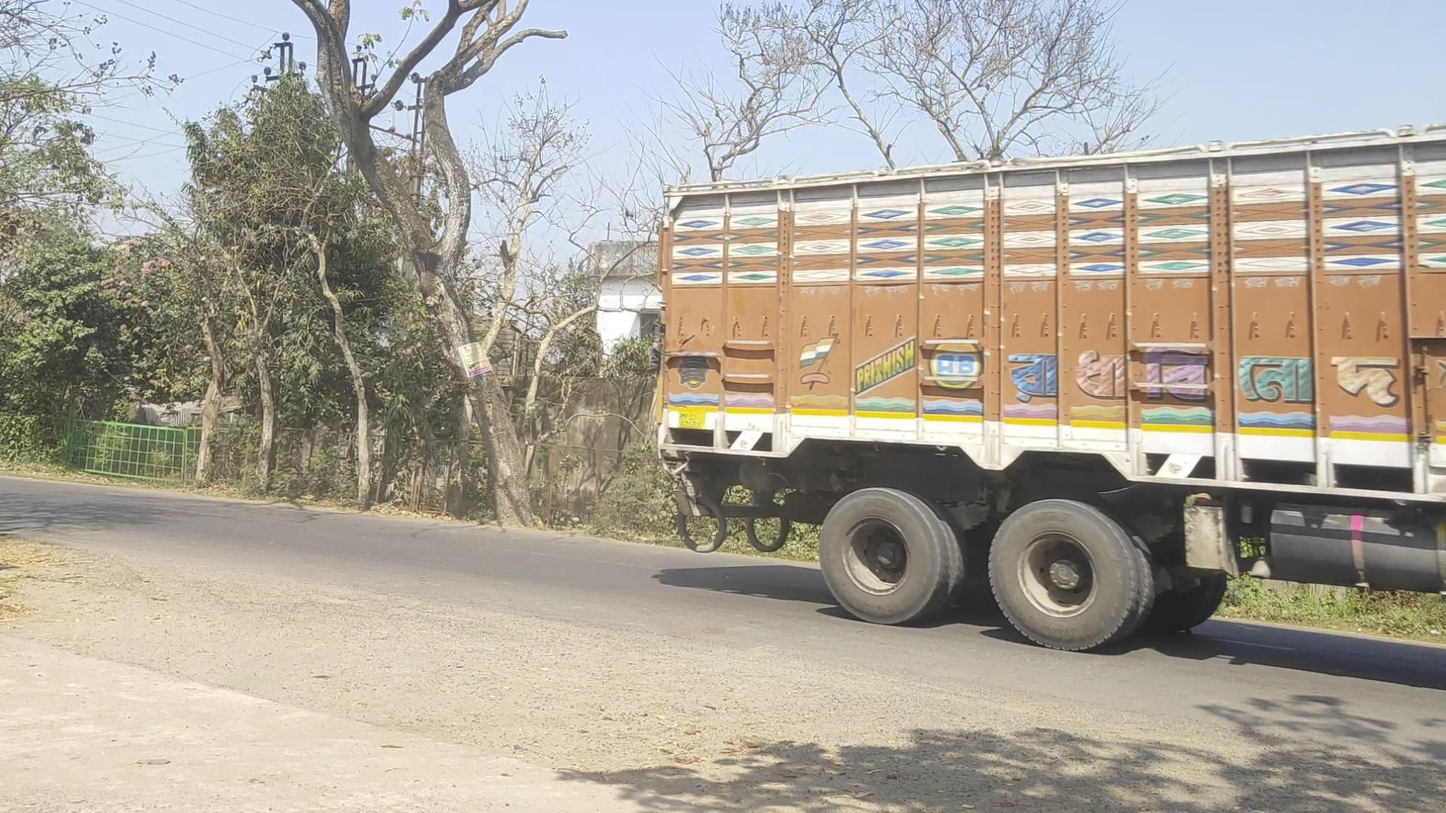truck: (653, 123, 1446, 657)
